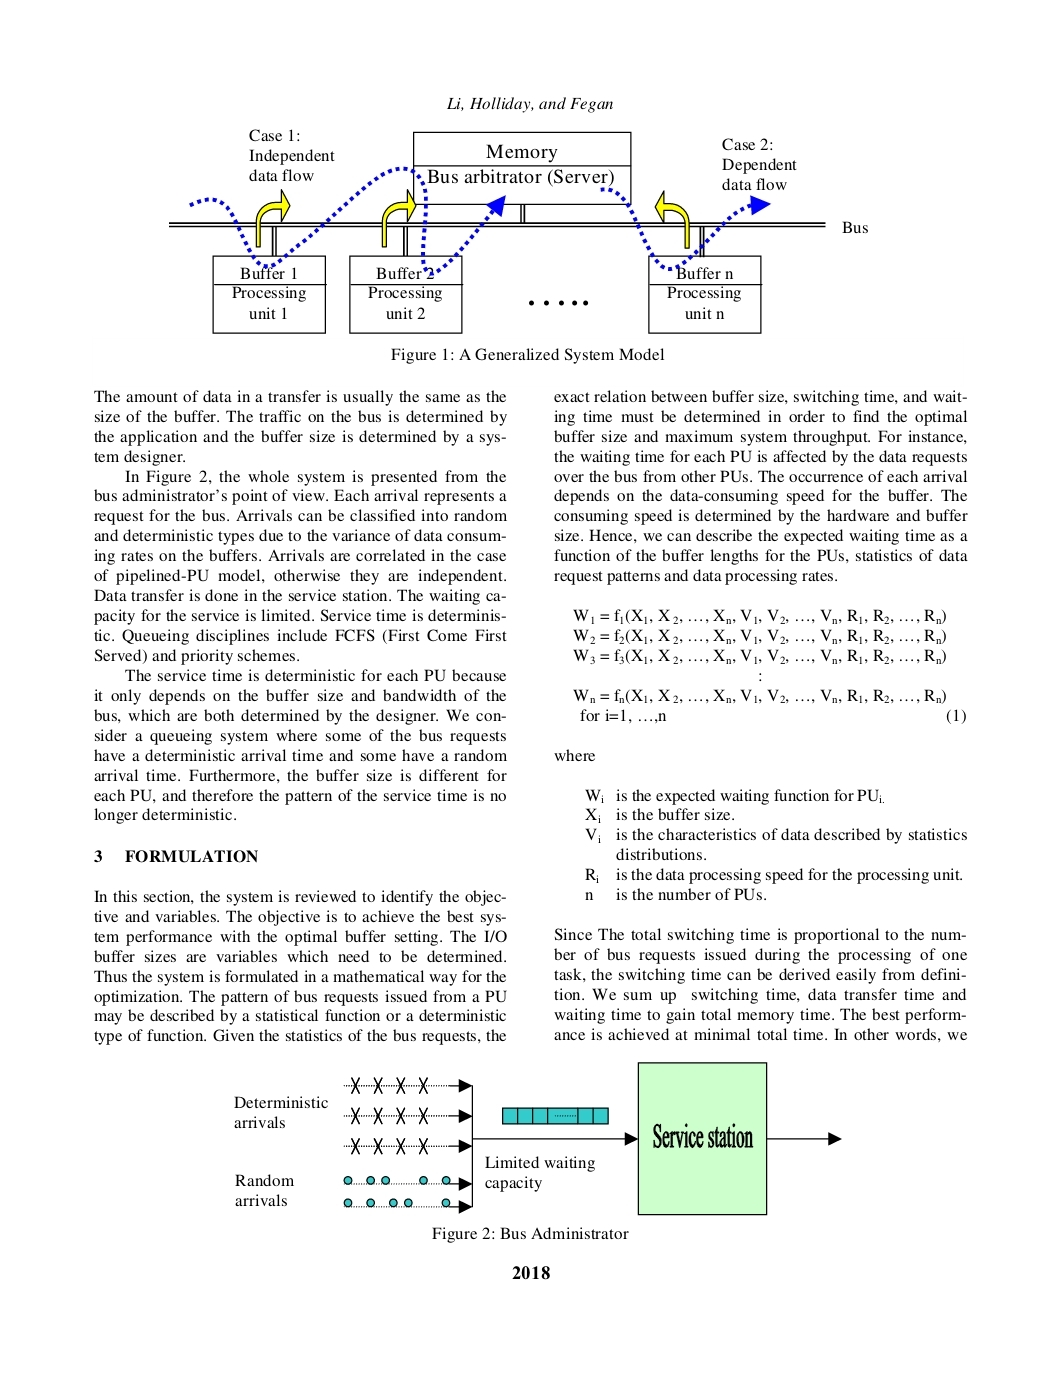figure: (169, 128, 867, 334), (234, 1062, 841, 1215)
formula: (573, 647, 945, 665), (580, 708, 965, 724), (573, 688, 945, 704), (573, 608, 945, 624), (573, 629, 945, 644)
